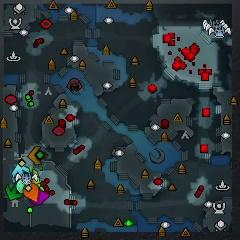p2: (17, 179, 26, 193)
p3: (32, 190, 50, 205)
p5: (23, 183, 39, 202)
x2: (31, 169, 40, 184)
x3: (12, 163, 29, 177)
x4: (6, 182, 22, 200)
x5: (29, 147, 48, 166)
